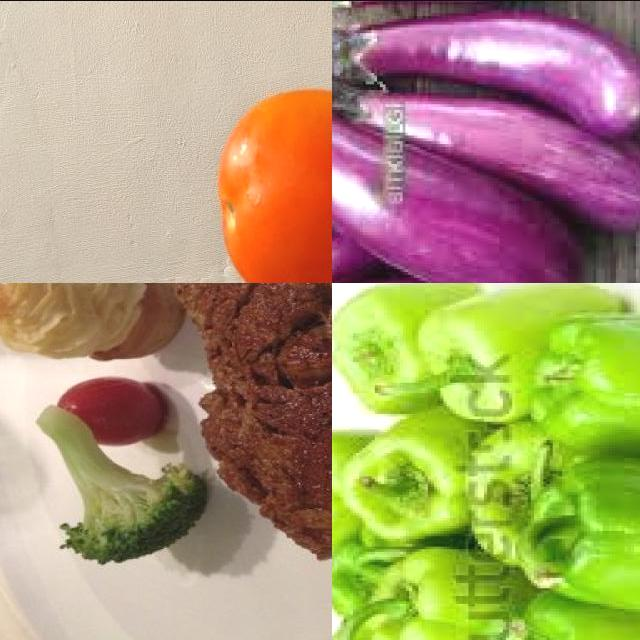bell_pepper: (513, 455, 640, 605), (524, 302, 640, 457)
eggplant: (333, 91, 577, 283), (335, 90, 640, 232), (333, 14, 640, 139)
tomato: (213, 81, 333, 283), (58, 378, 164, 441)
